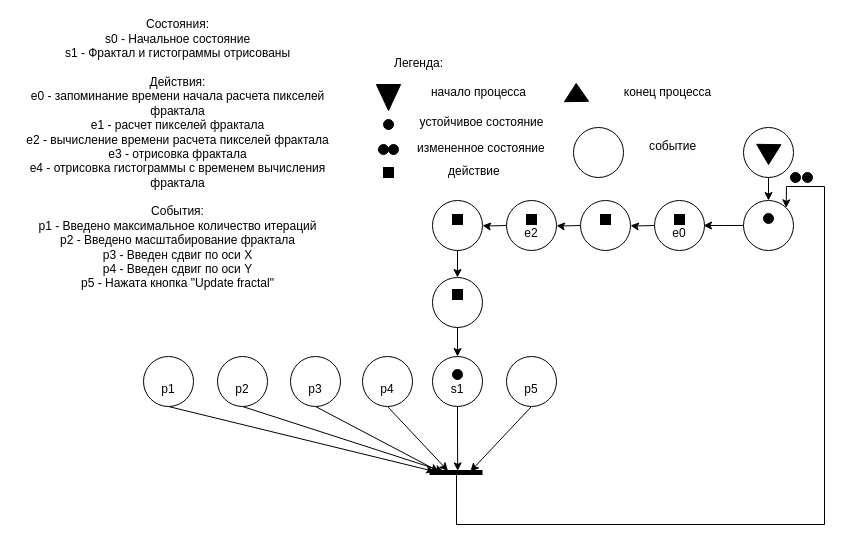
Some shapes in this 850 by 550 pixel diagram are drawn without their labels. The box of each missing label's shape, as (x1, y1, x2, y2) in pixels:
e1: (580, 200, 630, 250)
e3: (432, 200, 482, 250)
e4: (432, 276, 482, 328)
s0: (742, 200, 794, 250)
